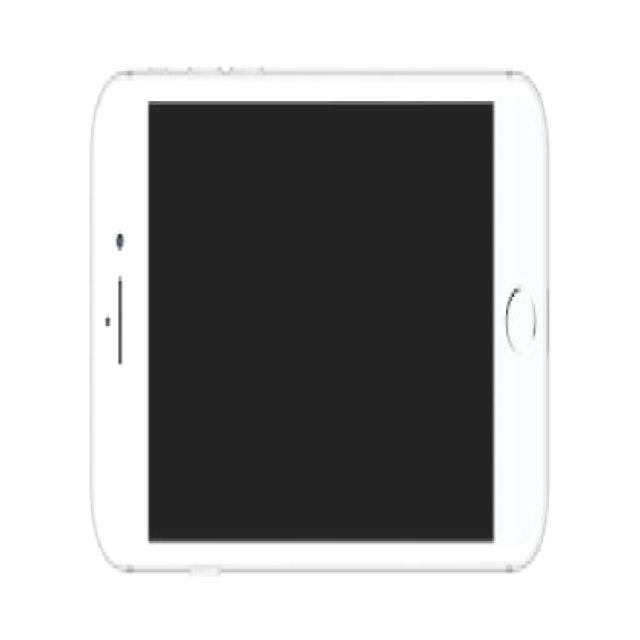phone: (89, 63, 551, 577)
